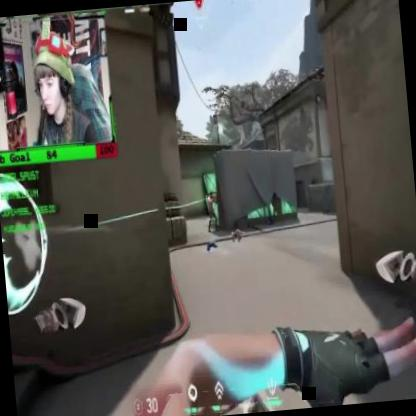enemy: (205, 188, 221, 235)
enemy_head: (210, 190, 214, 200)
